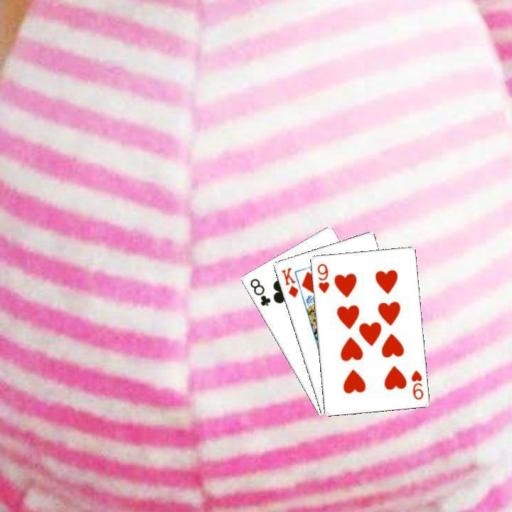card-corner: (246, 275, 272, 308), (278, 264, 299, 300), (314, 260, 330, 294), (408, 367, 424, 401)
